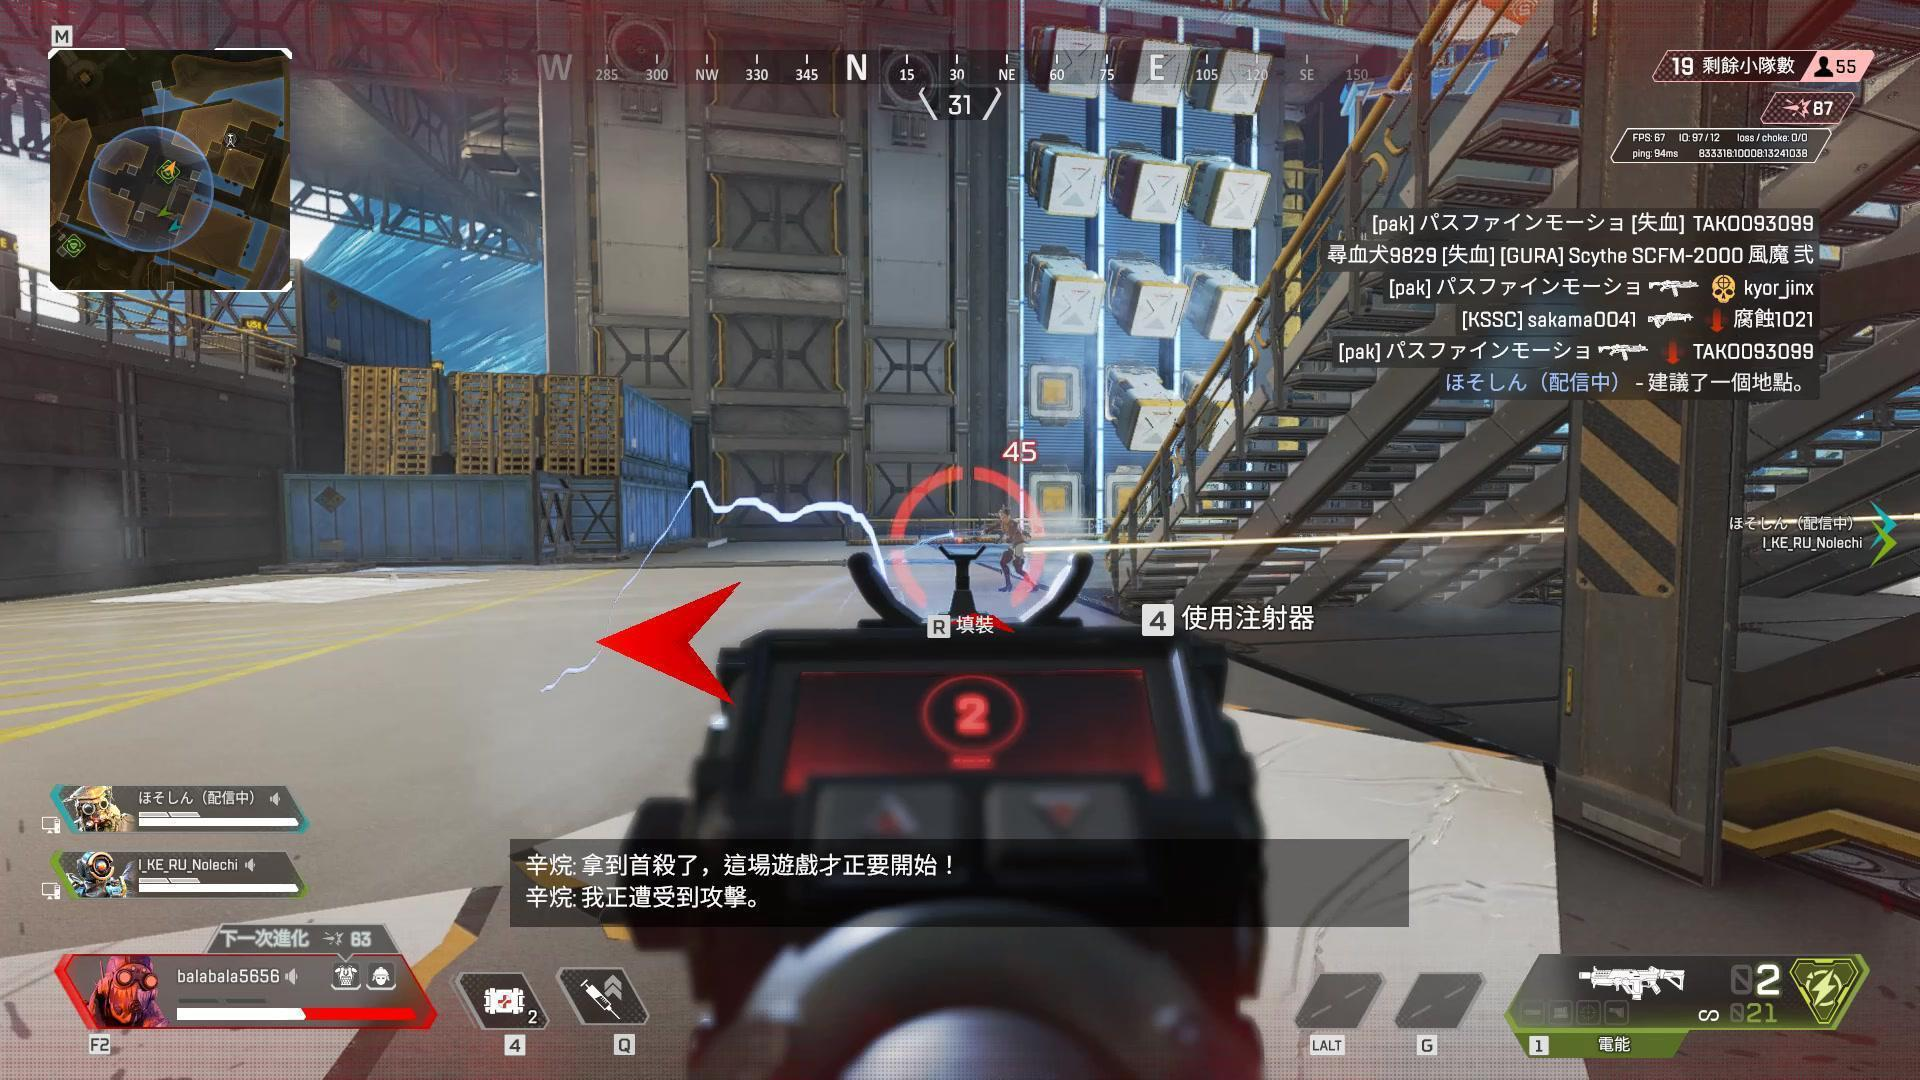avatar: (984, 504, 1035, 594)
